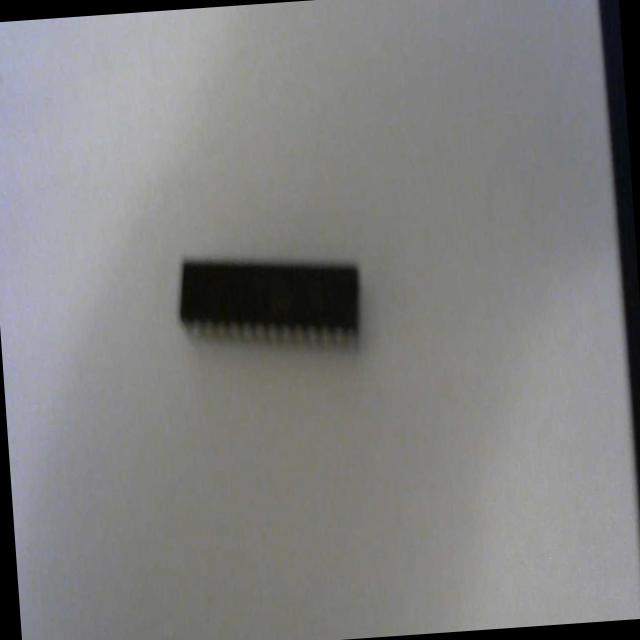atmega: (172, 240, 366, 366)
